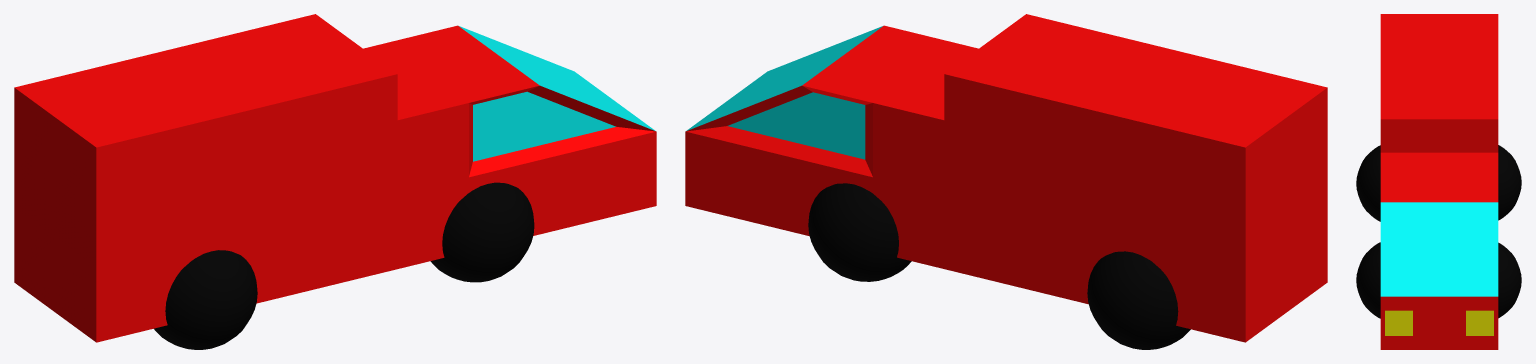
File: camion_coinrush.fbx
3 renders of one model, left to right at view 1: azimuth 30°, elevation 25°; view 2: azimuth 150°, elevation 25°; view 3: azimuth 270°, elevation 25°, orthographic. The views are drawn at different scales.
Parts seen in each view (by area): view 1: pCube1, pSphere2, pSphere3; view 2: pCube1, pSphere1, pSphere4; view 3: pCube1, pSphere2, pSphere3, pSphere4, pSphere1.
Part boxes in pixels (bbox=[...]): pCube1: bbox=[14, 14, 656, 342]; pSphere2: bbox=[430, 182, 534, 282]; pSphere3: bbox=[154, 250, 257, 349]; pCube1: bbox=[685, 14, 1327, 342]; pSphere1: bbox=[808, 183, 911, 281]; pSphere4: bbox=[1087, 251, 1190, 349]; pCube1: bbox=[1380, 14, 1498, 349]; pSphere2: bbox=[1356, 242, 1380, 318]; pSphere3: bbox=[1356, 145, 1380, 221]; pSphere4: bbox=[1498, 145, 1521, 220]; pSphere1: bbox=[1498, 242, 1521, 318].
Bounding box in the file's own units: 21.93 × 8.76 × 7.82.
